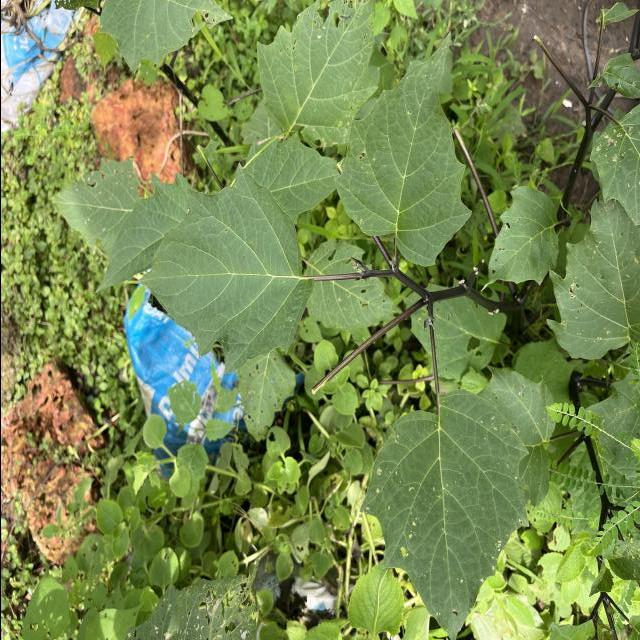Datura metal linn: (353, 385, 532, 640), (126, 157, 315, 376), (331, 28, 473, 268), (476, 182, 562, 296)
